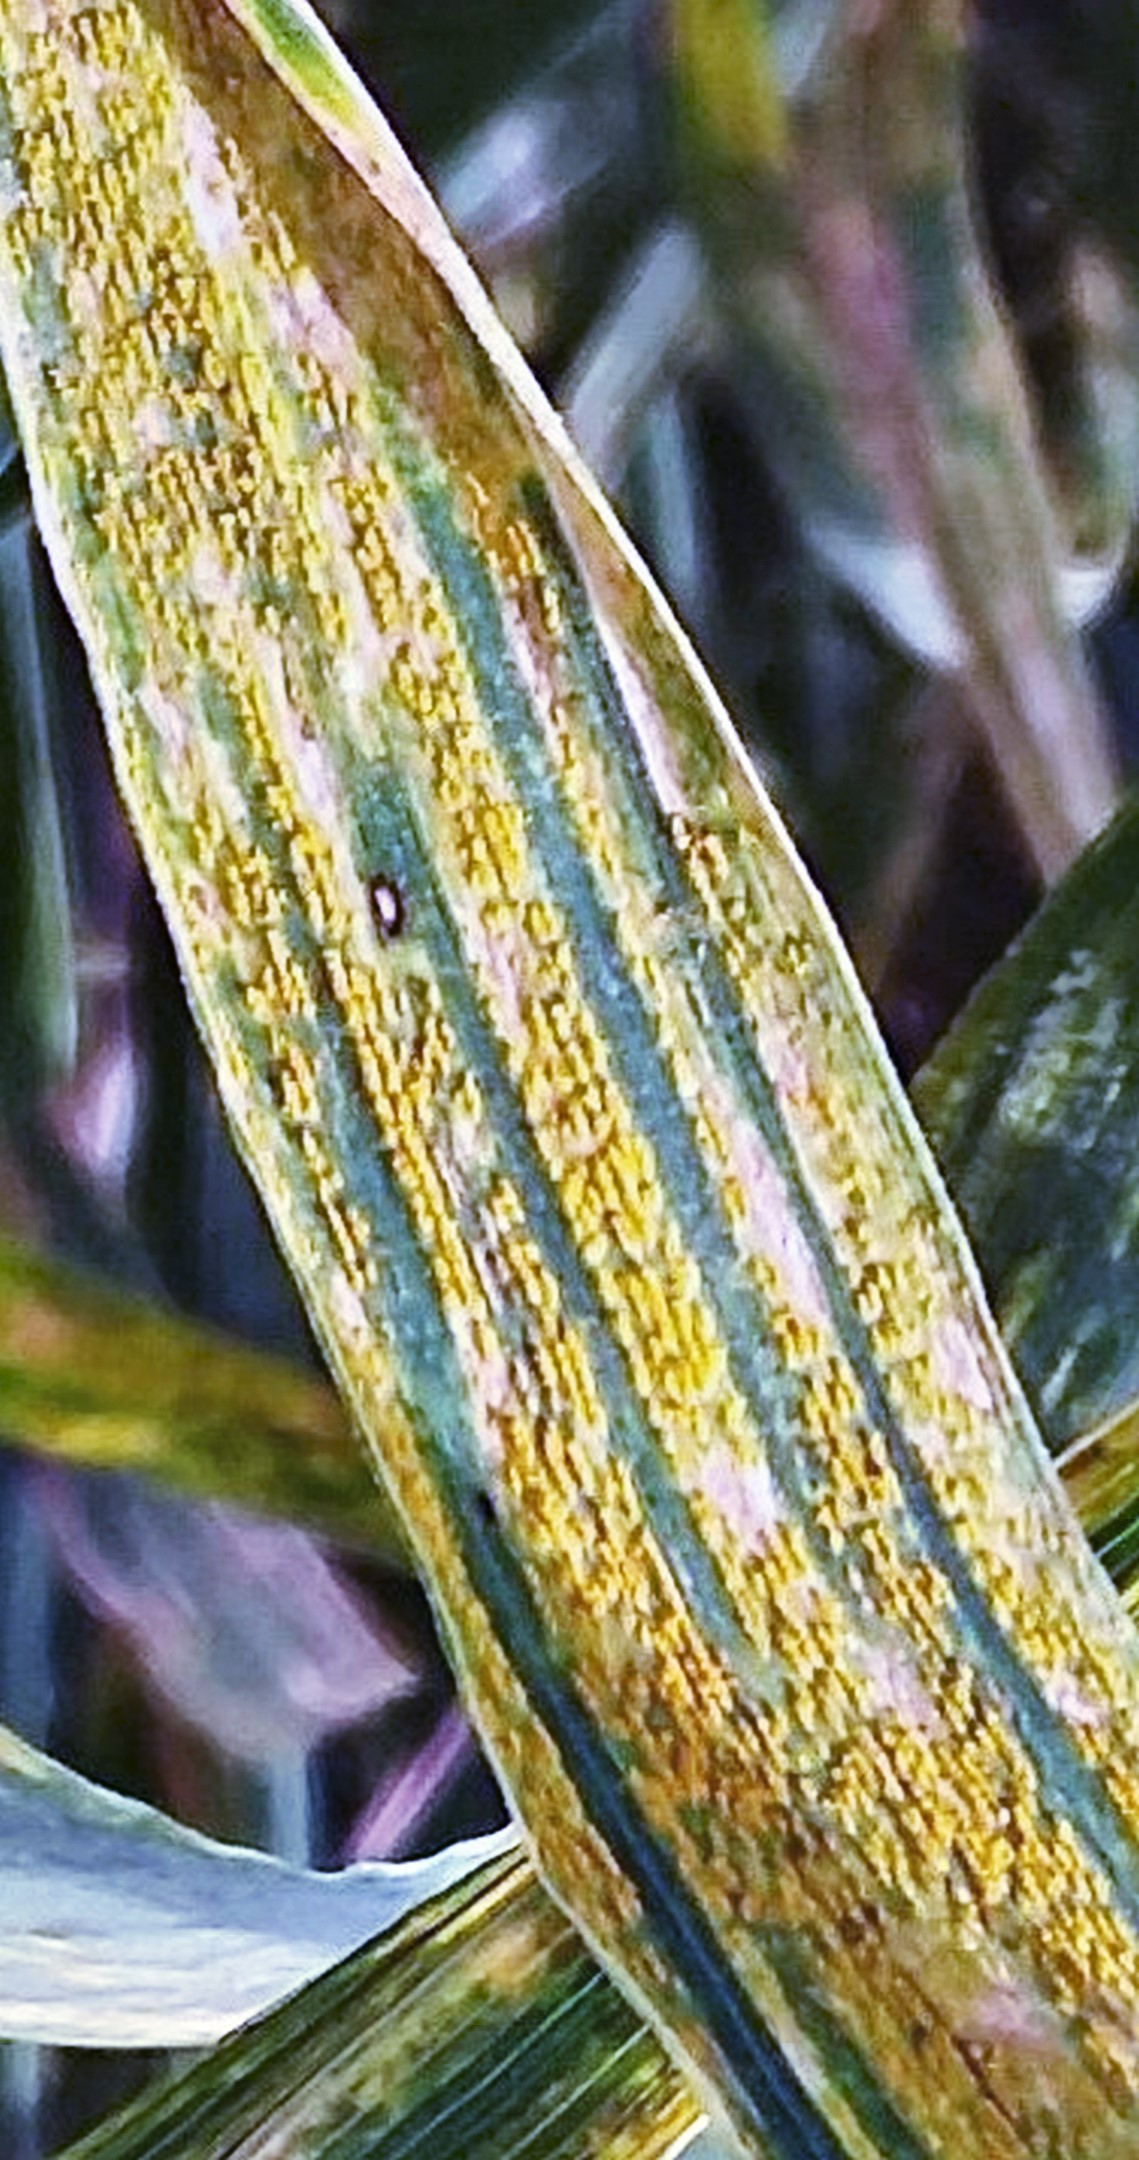Leaf Rust: (77, 191, 1139, 2017)
